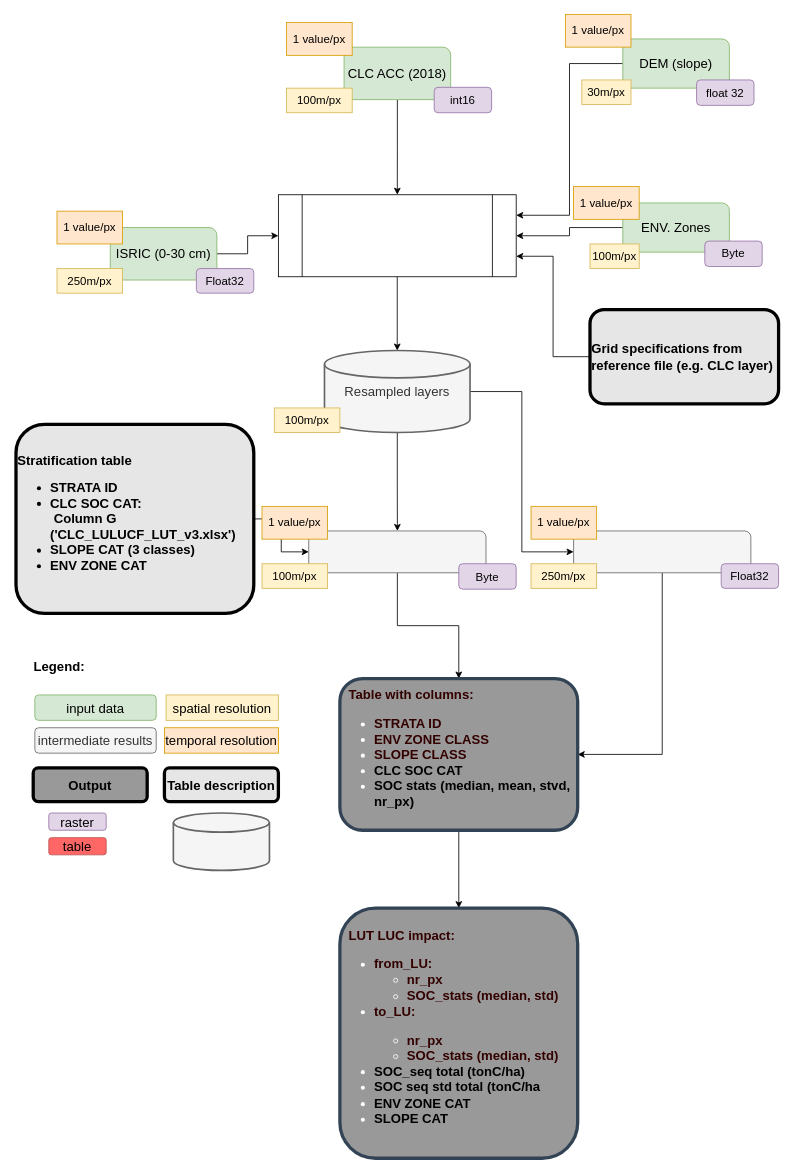
Some shapes in this 794 by 1174 pixel diagram are drawn without their labels. The centre of each missing label's shape, as x and y in pixels:
"Datacube Multi rasters" goes at pixel 221 841.
"ISRIC resampled" goes at pixel 662 551.
"Resampling & Clipping" goes at pixel 397 235.
"STRATIFICATION LAYER" goes at pixel 397 551.
